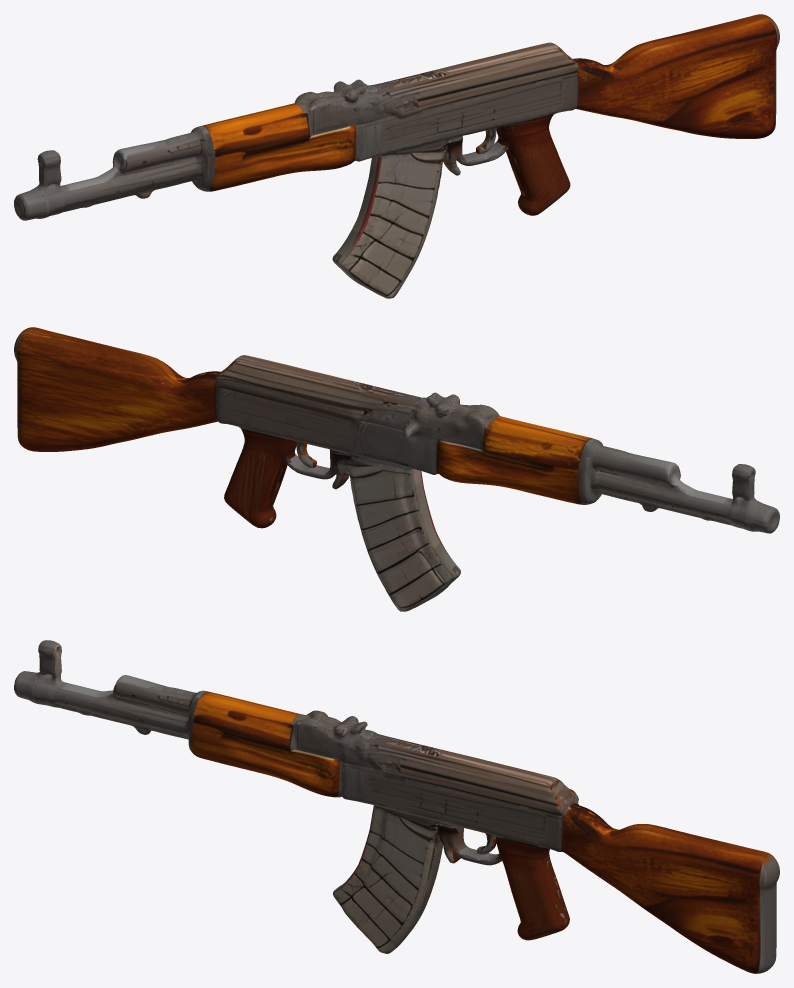
3 renders of one model, top to bottom at view 1: azimuth 30°, elevation 25°; view 2: azimuth 150°, elevation 25°; view 3: azimuth 330°, elevation 25°, orthographic.
Visible parts, largest first — view 1: textured_mesh; view 2: textured_mesh; view 3: textured_mesh.
Part boxes in pixels (<box>): textured_mesh: <box>14,14,779,298</box>; textured_mesh: <box>14,327,779,611</box>; textured_mesh: <box>14,640,779,973</box>.
Size of the model in its own units: 1.99 by 0.5718 by 0.1368.
Materials: 1 (1 with a texture image).
